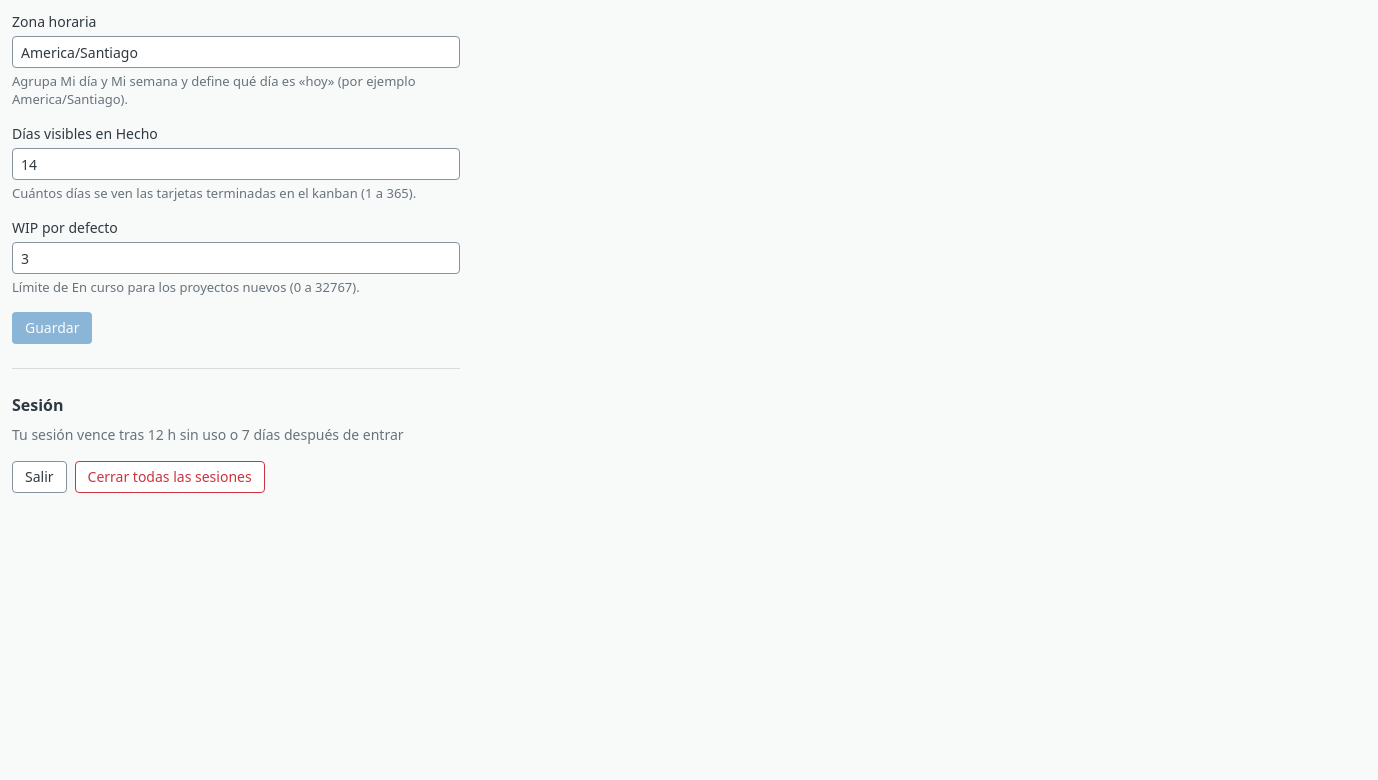
Scenario: Ajustes (4.8) › PATCH manda solo lo que cambió
Replace the text in the field labelled "Días visibles en Hecho" with "30": coordinates (236, 164) [12, 148, 460, 180]
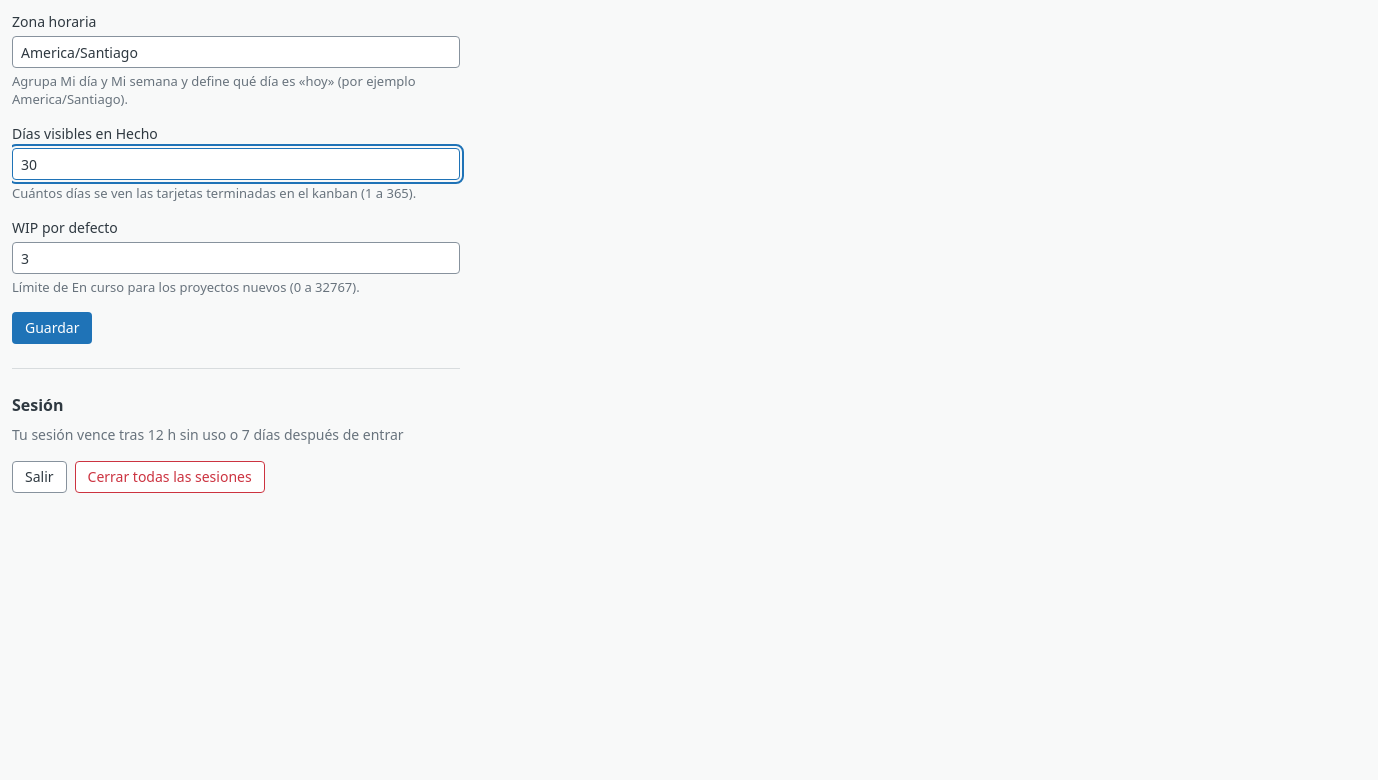
Click the button "Guardar": coordinates (52, 328) [12, 312, 92, 344]
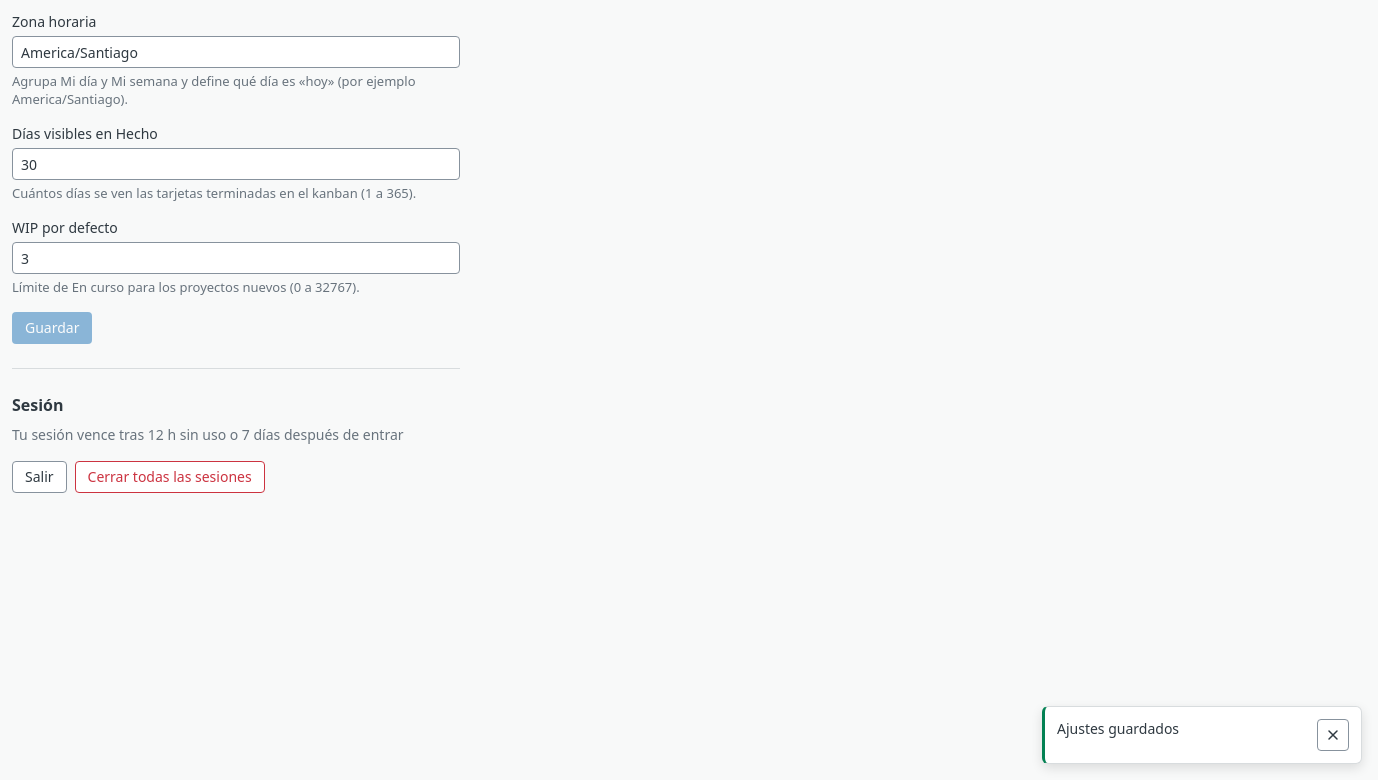
Expected: the text "Ajustes guardados" is shown, [1057, 719, 1179, 738]
Expected: the button "Guardar" is disabled, [12, 312, 92, 344]
